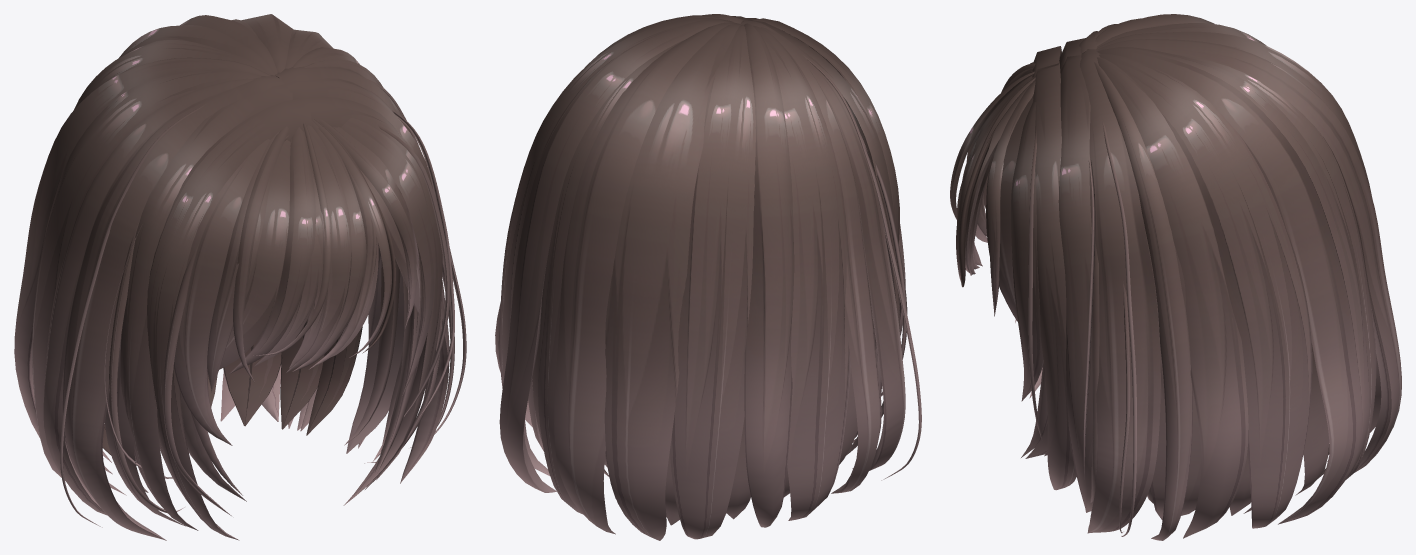
The model's file is vroid_hair_sY.glb.
The picture shows the model from 3 angles, left to right: view 1: azimuth 30°, elevation 25°; view 2: azimuth 150°, elevation 25°; view 3: azimuth 270°, elevation 25°; orthographic projection. The views are drawn at different scales.
Visible parts, largest first — view 1: part; view 2: part; view 3: part.
Part boxes in pixels (x1,y1,x2,y2): part: (14,14,466,540); part: (495,14,921,540); part: (950,14,1401,540).
Size of the model in its own units: 0.2565 by 0.2683 by 0.2487.
2 materials, 2 textured.
